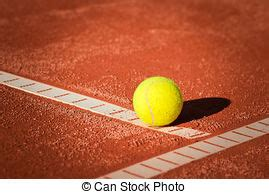tennis_ball: (132, 76, 183, 129)
